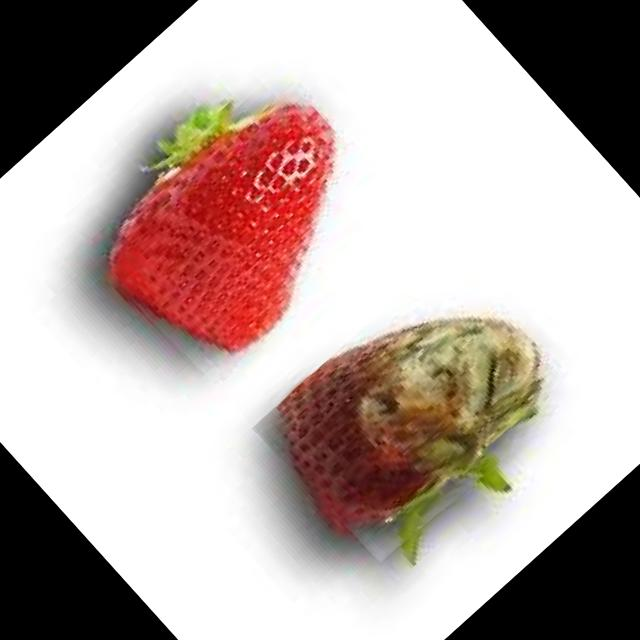Organic: (64, 53, 405, 390), (251, 239, 592, 574)
